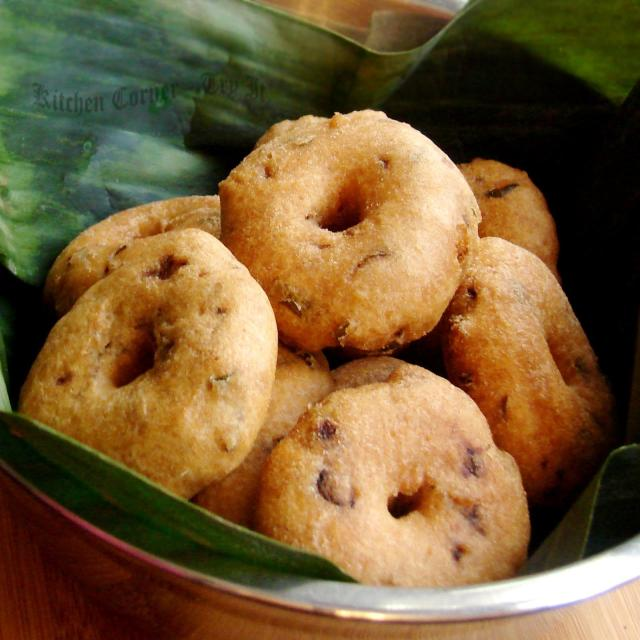VADA: (18, 107, 619, 587)
